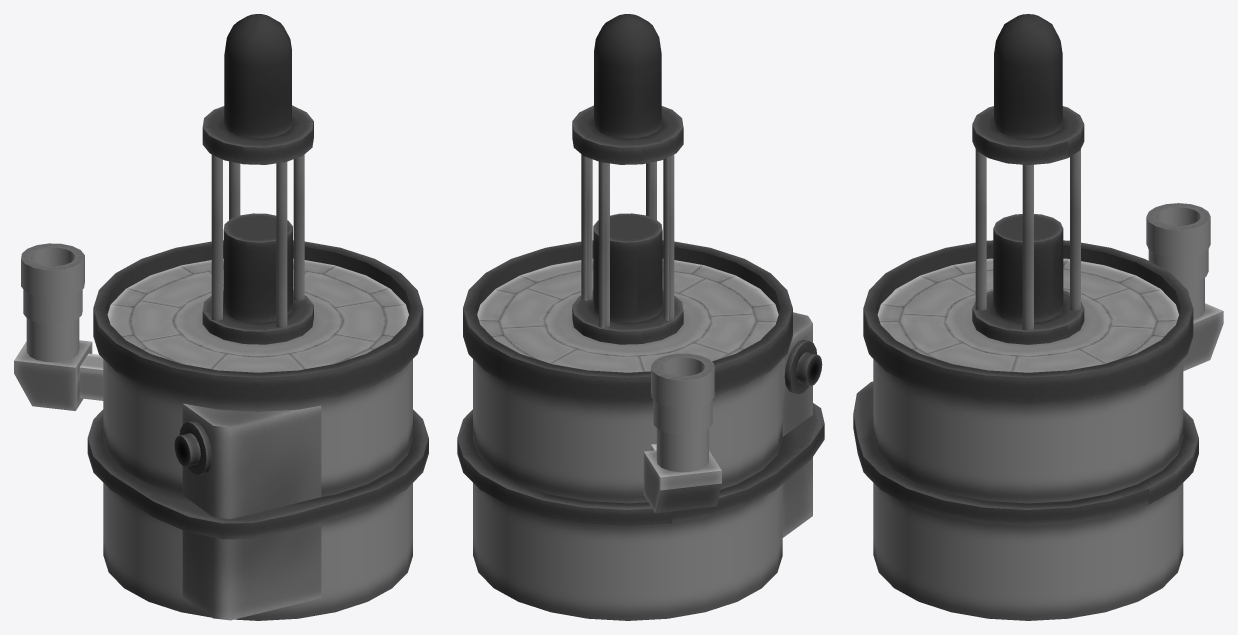
Rendered from IRspec.dae.
3 views of the same model, side by side, from view 1: azimuth 30°, elevation 25°; view 2: azimuth 150°, elevation 25°; view 3: azimuth 270°, elevation 25° (orthographic).
Visible parts, largest first — view 1: pCylinder37, pCube21, pCylinder39, pCylinder38, pCylinder44, pCube22, pCylinder50, pCylinder51, pCylinder52, pCylinder45, pCube23, pCylinder41; view 2: pCylinder37, pCylinder39, pCylinder38, pCylinder44, pCube21, pCube22, pCylinder41, pCylinder51, pCylinder52, pCylinder45, pCylinder50; view 3: pCylinder37, pCylinder39, pCylinder38, pCylinder44, pCylinder52, pCylinder50, pCylinder41, pCube22.
Boxes of the visible parts, bbox=[...] form: pCylinder37: bbox=[87, 240, 428, 620]; pCube21: bbox=[182, 403, 321, 620]; pCylinder39: bbox=[202, 14, 313, 164]; pCylinder38: bbox=[202, 213, 313, 344]; pCylinder44: bbox=[21, 243, 84, 362]; pCube22: bbox=[14, 340, 92, 410]; pCylinder50: bbox=[276, 162, 287, 328]; pCylinder51: bbox=[211, 154, 222, 320]; pCylinder52: bbox=[293, 154, 304, 300]; pCylinder45: bbox=[174, 420, 211, 475]; pCube23: bbox=[79, 353, 103, 400]; pCylinder41: bbox=[229, 161, 240, 219]; pCylinder37: bbox=[457, 240, 824, 620]; pCylinder39: bbox=[572, 14, 683, 164]; pCylinder38: bbox=[572, 213, 683, 344]; pCylinder44: bbox=[651, 353, 714, 472]; pCube21: bbox=[782, 312, 812, 537]; pCube22: bbox=[643, 450, 721, 513]; pCylinder41: bbox=[598, 162, 609, 328]; pCylinder51: bbox=[663, 154, 674, 320]; pCylinder52: bbox=[581, 154, 592, 300]; pCylinder45: bbox=[784, 339, 822, 394]; pCylinder50: bbox=[646, 161, 656, 219]; pCylinder37: bbox=[853, 240, 1198, 620]; pCylinder39: bbox=[972, 14, 1084, 165]; pCylinder38: bbox=[972, 214, 1084, 344]; pCylinder44: bbox=[1146, 203, 1210, 319]; pCylinder52: bbox=[1022, 164, 1033, 330]; pCylinder50: bbox=[975, 149, 986, 310]; pCylinder41: bbox=[1070, 149, 1080, 310]; pCube22: bbox=[1183, 303, 1223, 371].
Bounding box in the file's own units: 0.2356 × 0.3843 × 0.2383.
